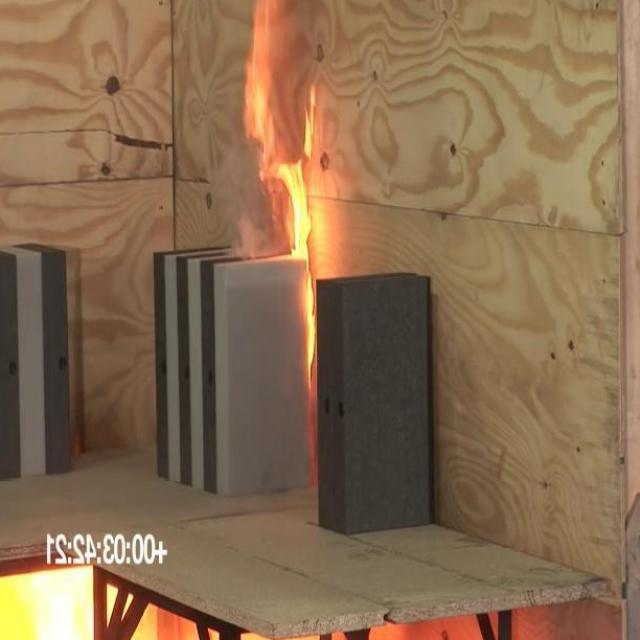smoke: (236, 0, 323, 403)
